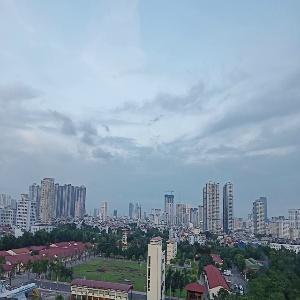drone: (179, 227, 232, 280)
